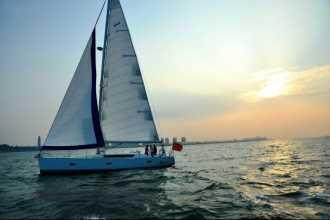fanchuan: (33, 1, 182, 176)
